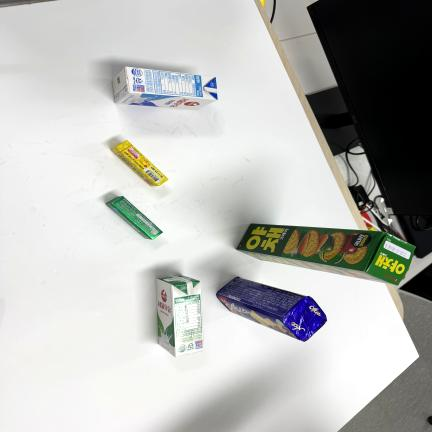cracker_ace: (217, 277, 327, 341)
cracker_vege: (237, 223, 415, 285)
gum_green: (106, 196, 162, 240)
gum_yellow: (111, 140, 168, 187)
milk_blue: (113, 67, 217, 110)
milk_green: (156, 276, 204, 357)
